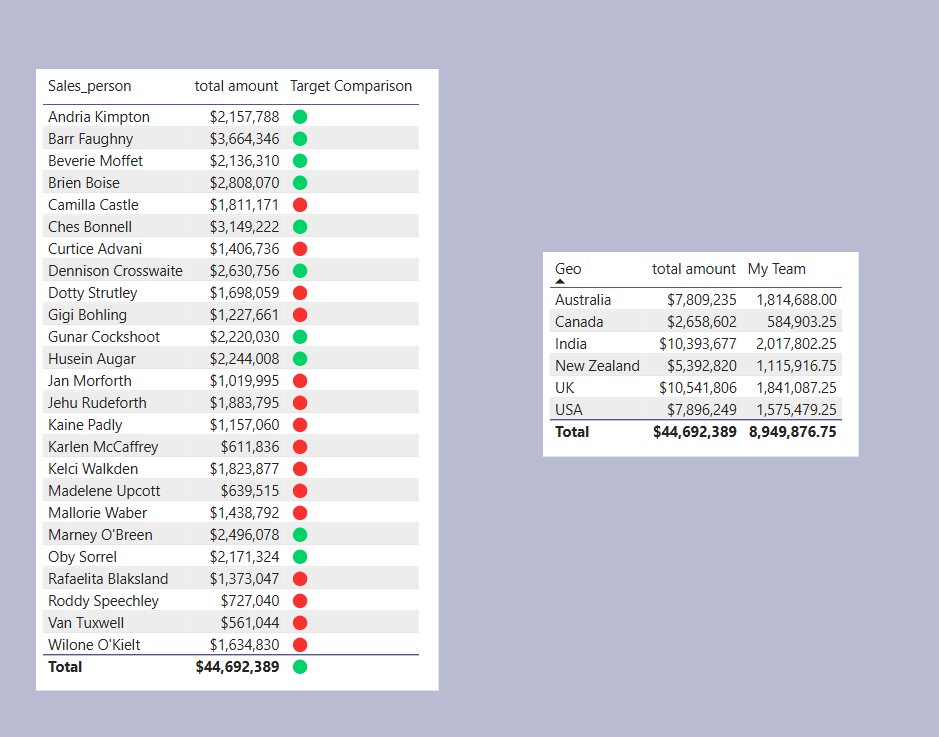

This screenshot's page, from the dashboard's own definition file:
{"tool":"powerbi","page":{"name":"Page 1","canvas":[1280,720],"ordinal":3},"visuals":[{"type":"tableEx","fields":{"Values":["Location.Geo","Shipments.total amount","Person.My Team"]},"box":[507.3,279.1,287.3,186.4],"z":0},{"type":"tableEx","fields":{"Values":["Person.Sales_person","Shipments.total amount","Shipments.Target Comparison"]},"box":[46.4,112.7,366.4,565.5],"z":1}]}

Visuals, with their boxes on the page's 1280x720 design canvas (x1, y1, x2, y2). These are canvas units, not pixel positions in the 939x737 screenshot, which may show the page scaled, cropped or inside an application window:
tableEx - Location.Geo x Shipments.total amount: bbox=[507, 279, 795, 466]
tableEx - Person.Sales_person x Shipments.total amount: bbox=[46, 113, 413, 678]
